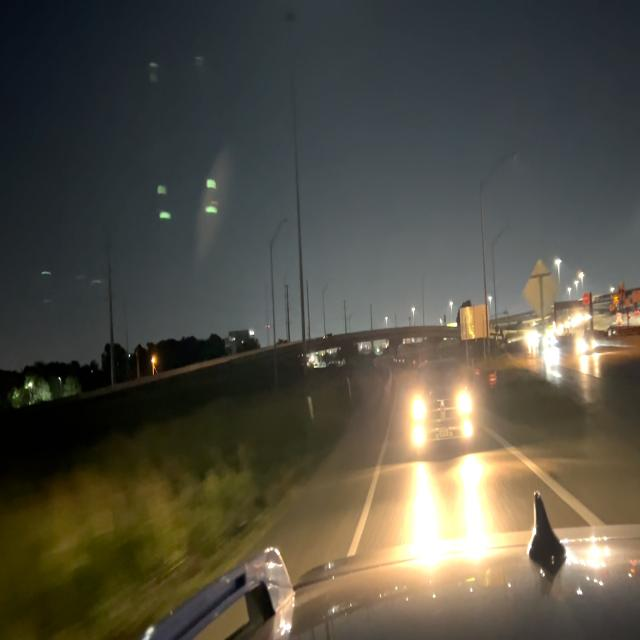back-of-sign: (526, 260, 559, 322), (459, 304, 491, 339)
